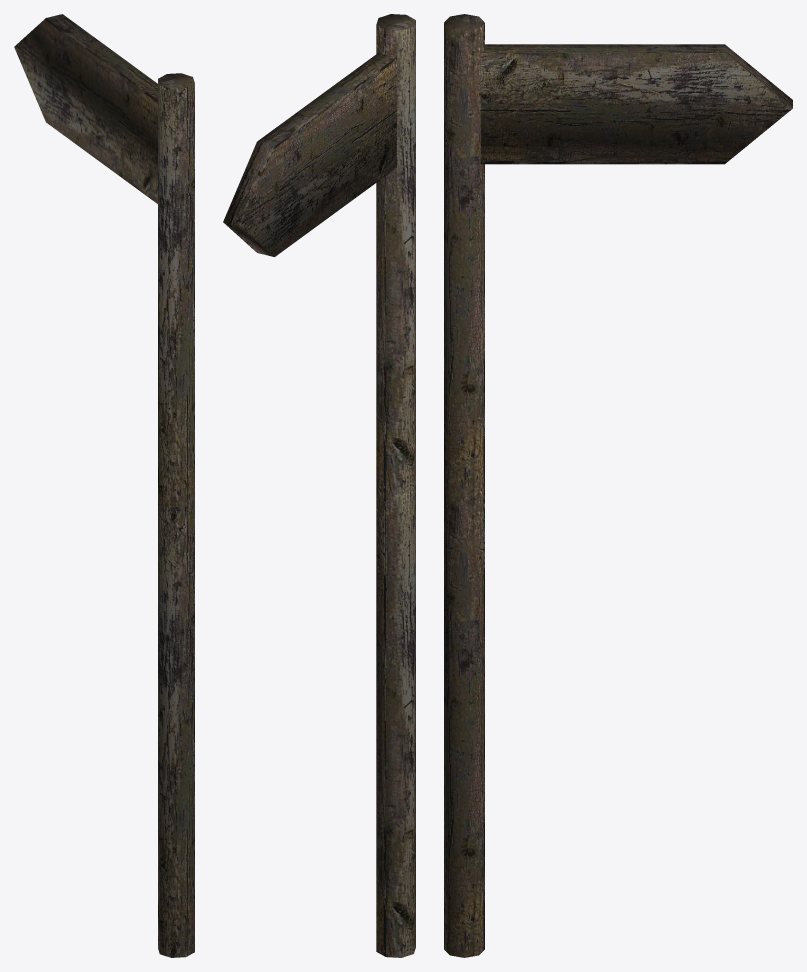
The model's file is NW_MISC_SIGN_01.glb.
3 renders of one model, left to right at view 1: azimuth 30°, elevation 25°; view 2: azimuth 150°, elevation 25°; view 3: azimuth 270°, elevation 25°, orthographic. The views are drawn at different scales.
Parts seen in each view (by area): view 1: Mesh; view 2: Mesh; view 3: Mesh.
Part boxes in pixels (x1,y1,x2,y2): Mesh: [14, 14, 194, 957]; Mesh: [223, 14, 415, 957]; Mesh: [444, 14, 792, 957].
Size of the model in its own units: 0.1 by 2.5 by 0.8532.
Materials: 1 (1 with a texture image).
